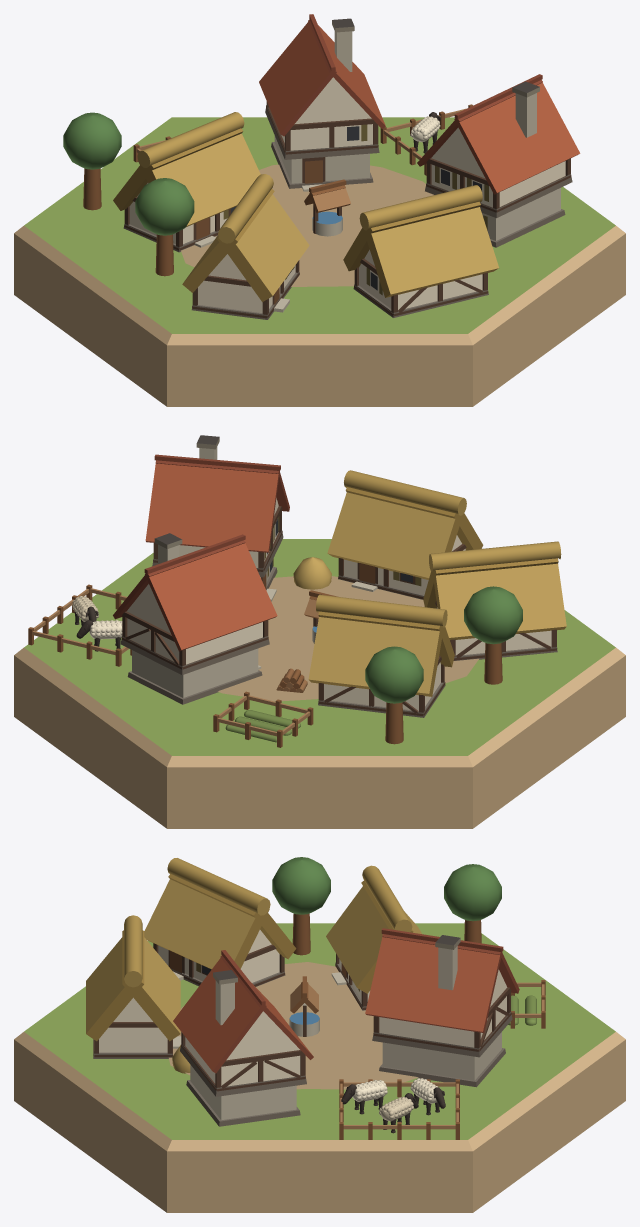
Rendered from kingdom_tile_village.fbx.
3 renders of one model, top to bottom at view 1: azimuth 30°, elevation 25°; view 2: azimuth 150°, elevation 25°; view 3: azimuth 270°, elevation 25°, orthographic.
Visible parts, largest first — view 1: kingdom_tile_village; view 2: kingdom_tile_village; view 3: kingdom_tile_village.
Boxes of the visible parts, left/top/right/bottom form: kingdom_tile_village: left=14, top=14, right=625, bottom=406; kingdom_tile_village: left=14, top=435, right=625, bottom=828; kingdom_tile_village: left=14, top=857, right=625, bottom=1212.
Size of the model in its own units: 1.73 by 0.7335 by 2.
